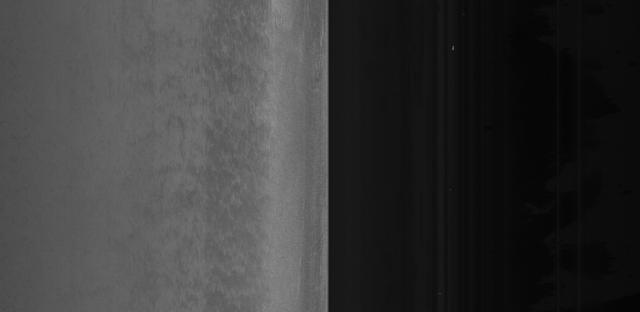silk_spot: (188, 72, 279, 228)
